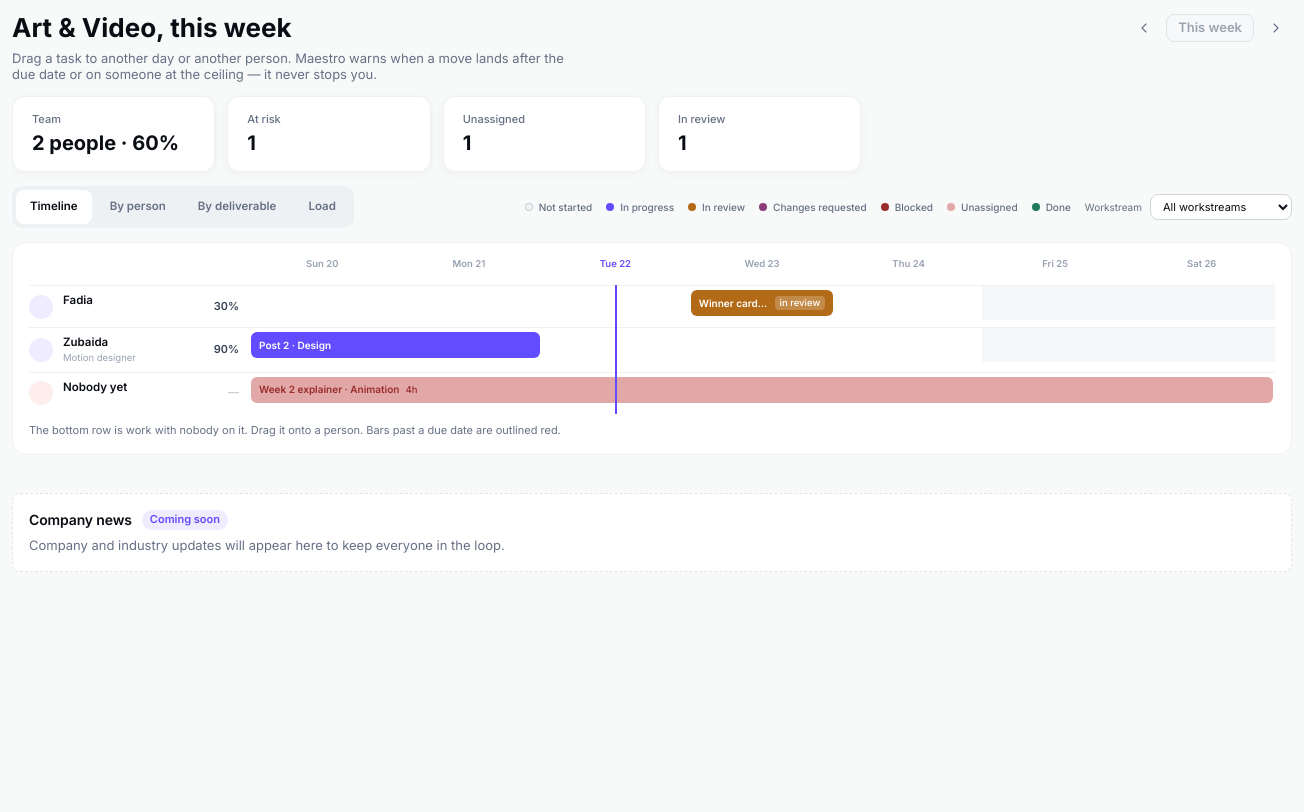
the four figures › each opens its tab, filtered
The width and height of the screenshot is (1304, 812).
Step 1. Click the button with test id "team-figure-unassigned" → (544, 134), box [443,96,646,172]
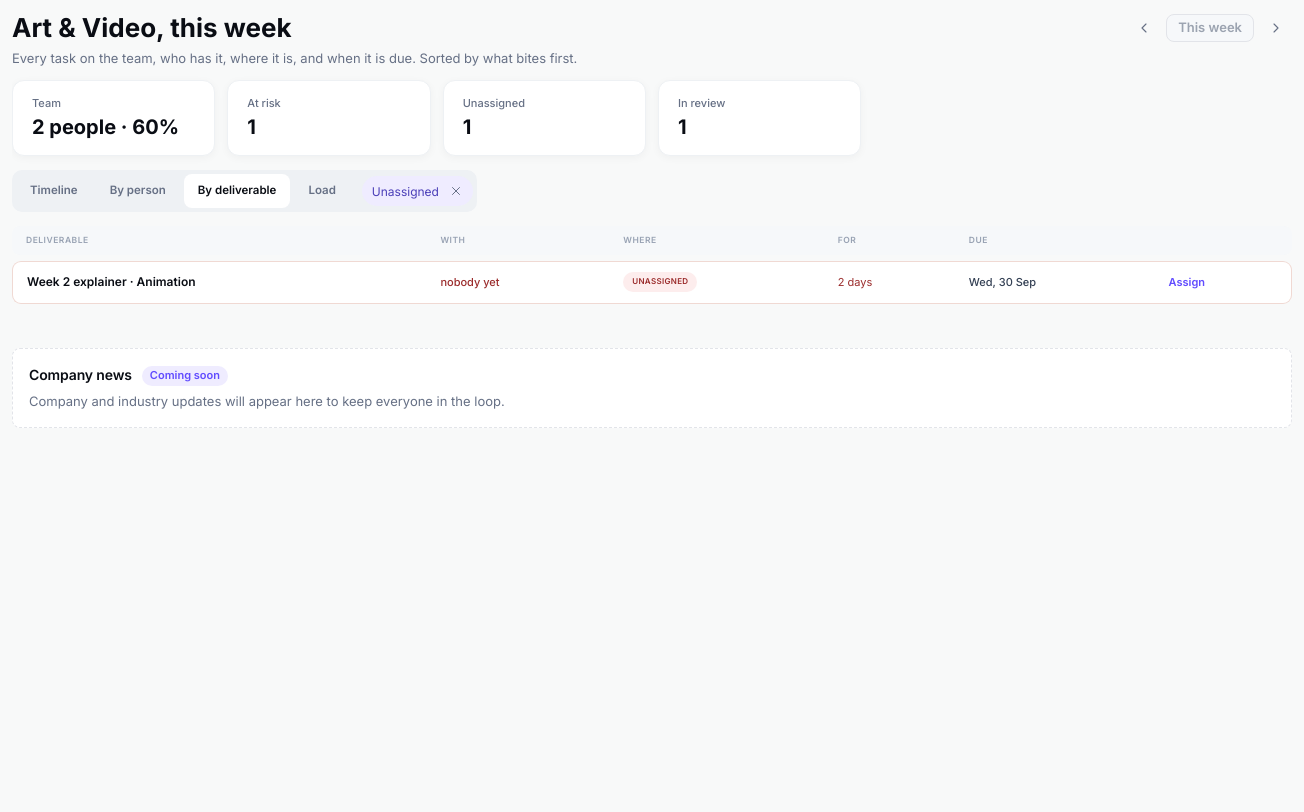
expect the element with test id "team-filter" reads "Unassigned": met, box [372,184,439,199]
expect the row with test id "team-piece-t-nobody" is shown: met, box [12,261,1292,304]
Step 2. Click the button with test id "team-figure-at-risk" → (329, 118), box [227,80,431,156]
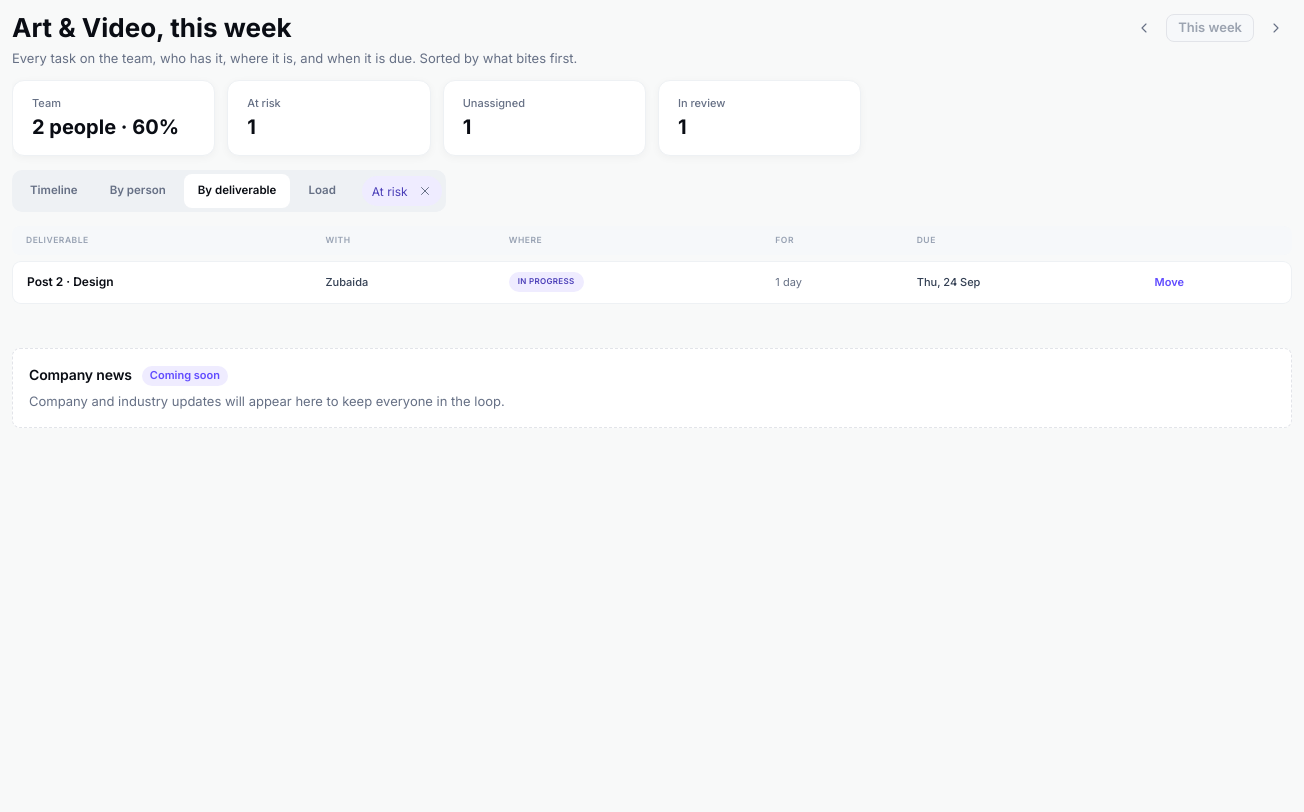
expect the row with test id "team-piece-t-post2" is shown: met, box [12,261,1292,304]
expect the row with test id "team-piece-t-nobody" is gone: met
Step 3. Click the button with test id "team-figure-review" → (760, 118), box [658,80,861,156]
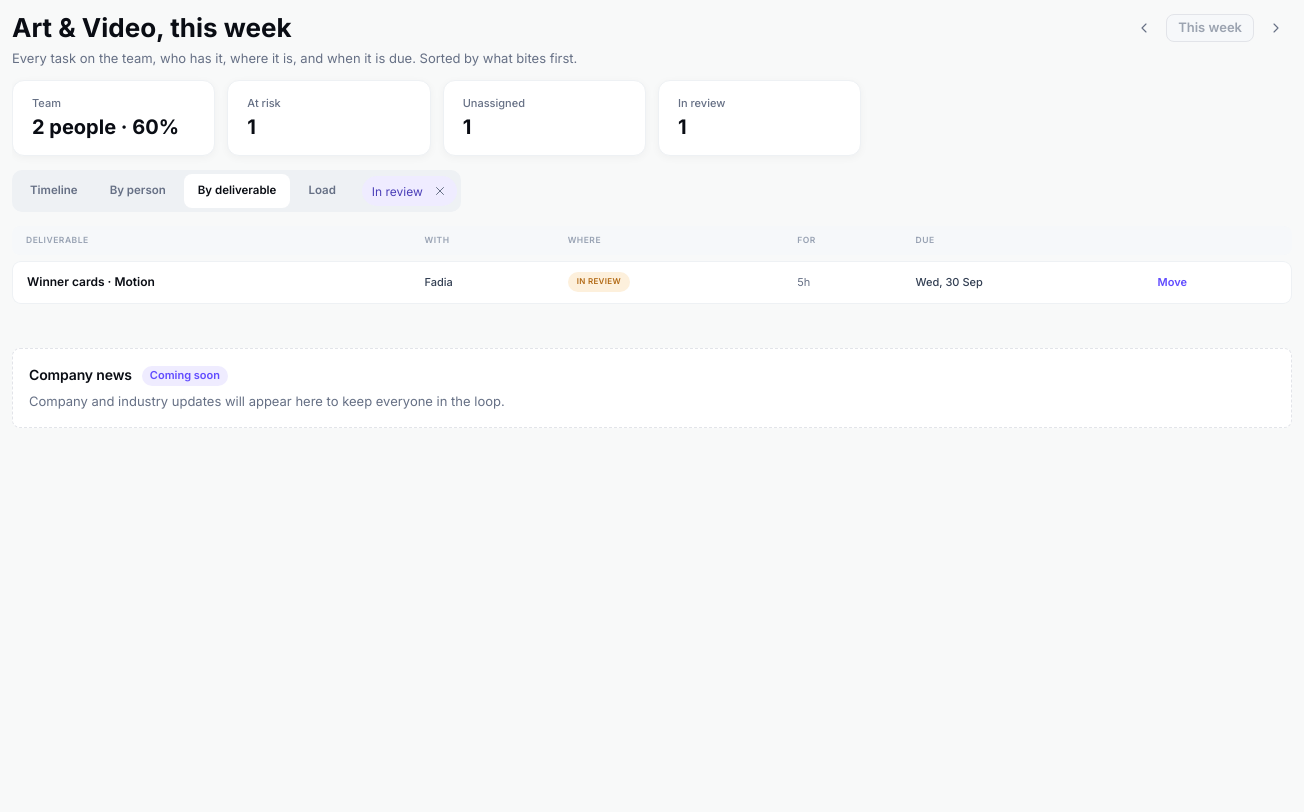
expect the row with test id "team-piece-t-winner" is shown: met, box [12,261,1292,304]
Step 4. Click the button with test id "team-filter-clear" → (440, 191), box [427,178,453,204]
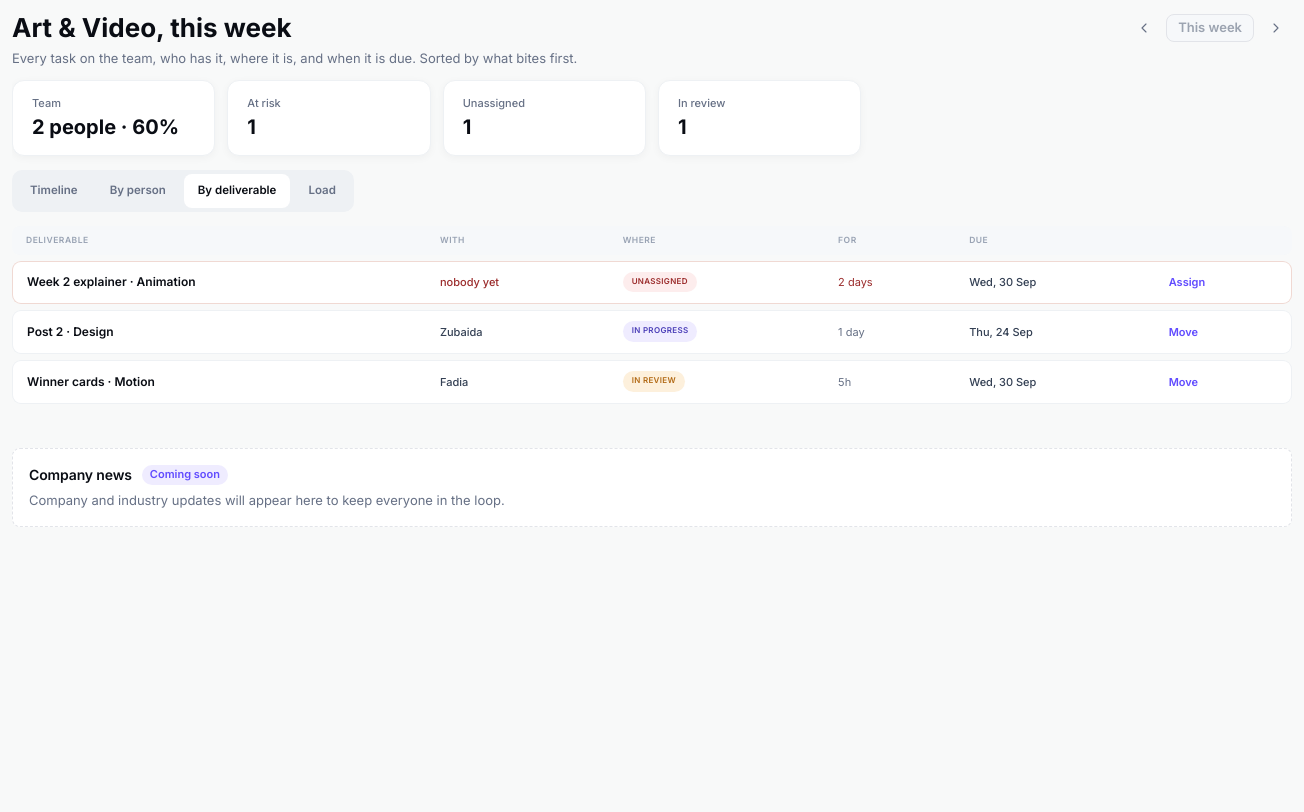
expect the row with test id "team-piece-t-nobody" is shown: met, box [12,261,1292,304]
expect the row with test id "team-piece-t-post2" is shown: met, box [12,310,1292,354]
Step 5. Click the button with test id "team-figure-team" → (114, 118), box [12,80,215,156]
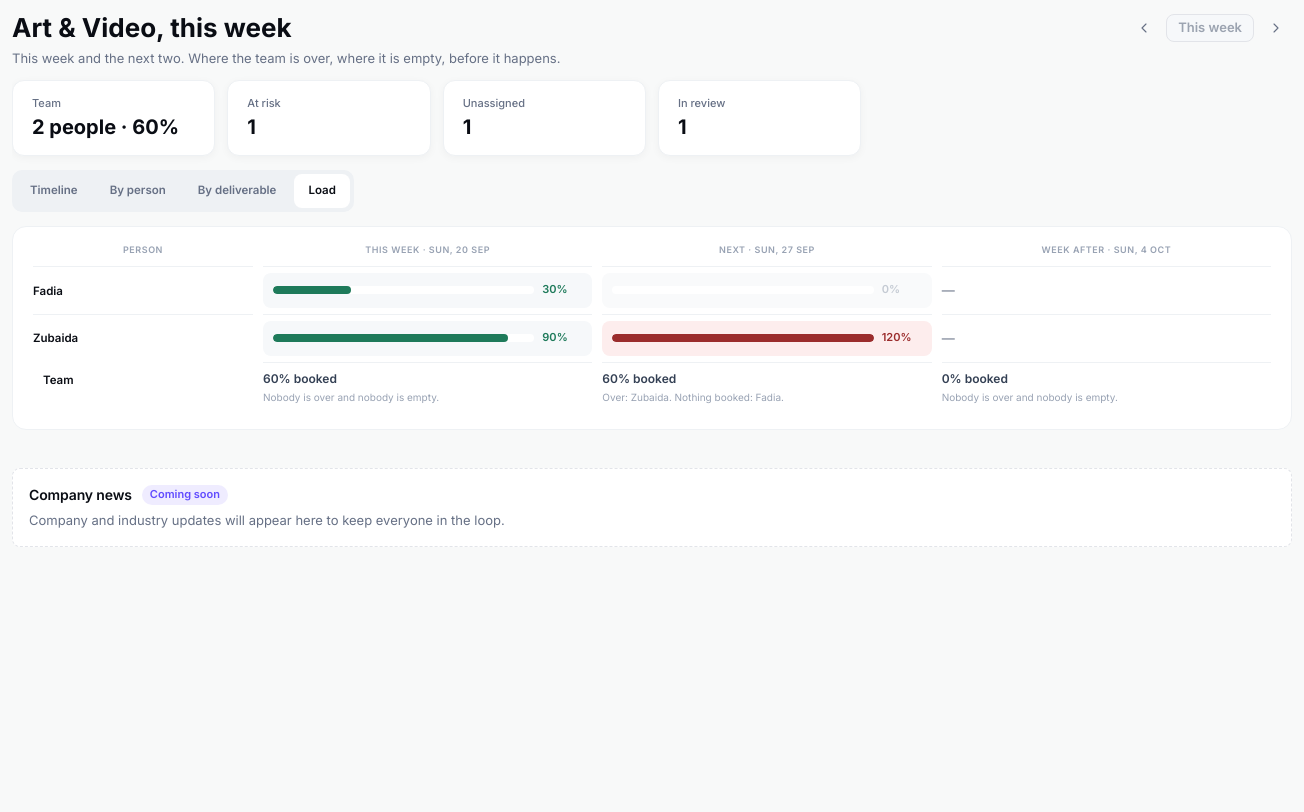
expect the table with test id "team-load" is shown: met, box [12,226,1292,430]
